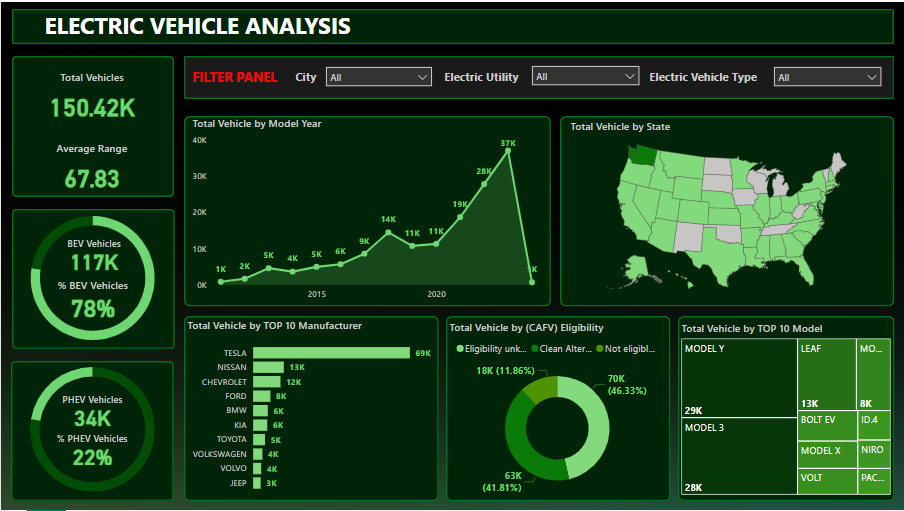

The page's visual inventory and layout, read from the dashboard file:
{"tool":"powerbi","page":{"name":"Page 1","canvas":[1280,720],"ordinal":0},"visuals":[{"type":"shape","box":[15.7,10,1250,49.9],"z":0},{"type":"textbox","box":[56.7,5.7,477.6,58.1],"z":1000},{"type":"shape","box":[15.7,77.1,229.7,199.8],"z":2000},{"type":"card","title":"Total Vehicles","fields":{"Values":["Electric_Vehicle_Population_Data.Total Vehicle"]},"box":[37.5,96.5,184.1,80.4],"z":3000},{"type":"card","title":"Average Range","fields":{"Values":["Avg(Electric_Vehicle_Population_Data.Electric Range)"]},"box":[37.5,196.6,184.1,80.4],"z":4000},{"type":"shape","box":[16.1,293.2,230.6,198.4],"z":5000},{"type":"shape","box":[14.3,509.5,230.6,198.4],"z":6000},{"type":"donutChart","fields":{"Category":["Electric_Vehicle_Population_Data.Electric Vehicle Type"],"Y":["Electric_Vehicle_Population_Data.Total Vehicle"]},"box":[0,276.8,259.7,229.7],"z":7000},{"type":"card","title":"BEV Vehicles","fields":{"Values":["Electric_Vehicle_Population_Data.BEV Vehicles"]},"box":[39.3,332.5,184.1,51.8],"z":8000},{"type":"card","title":"% BEV Vehicles","fields":{"Values":["Electric_Vehicle_Population_Data.% of BEV"]},"box":[51.8,391.5,155.5,60.8],"z":9000},{"type":"donutChart","fields":{"Category":["Electric_Vehicle_Population_Data.Electric Vehicle Type"],"Y":["Electric_Vehicle_Population_Data.Total Vehicle"]},"box":[0,489.8,259.2,230.6],"z":10000},{"type":"card","title":"PHEV Vehicles","fields":{"Values":["Electric_Vehicle_Population_Data.PHEV Vehicles"]},"box":[55.4,554.2,148.4,51.8],"z":11000},{"type":"card","title":"% PHEV Vehicles","fields":{"Values":["Electric_Vehicle_Population_Data.% of PHEV"]},"box":[55.4,609.6,148.4,51.8],"z":12000},{"type":"shape","box":[259.2,76.9,1006.5,60.8],"z":13000},{"type":"shape","box":[259.2,160.9,520,270],"z":14000},{"type":"areaChart","fields":{"Category":["Electric_Vehicle_Population_Data.Model Year"],"Y":["Electric_Vehicle_Population_Data.Total Vehicle"]},"box":[266.4,160.9,504.1,269.9],"z":15000},{"type":"shape","box":[792,160.9,473.7,269.9],"z":16000},{"type":"shapeMap","fields":{"Category":["Electric_Vehicle_Population_Data.State"],"Value":["Electric_Vehicle_Population_Data.Total Vehicle"]},"box":[802,165.5,453.8,256.9],"z":17000},{"type":"shape","box":[259.7,445.2,361,262.6],"z":18000},{"type":"clusteredBarChart","title":"Total Vehicle by TOP 10 Manufacturer","fields":{"Category":["Electric_Vehicle_Population_Data.Make"],"Y":["Electric_Vehicle_Population_Data.Total Vehicle"]},"box":[259.7,448.1,355.3,255.4],"z":19000},{"type":"shape","box":[630.7,445.2,318.2,262.6],"z":20000},{"type":"donutChart","title":"Total Vehicle by (CAFV) Eligibility","fields":{"Category":["Electric_Vehicle_Population_Data.Clean Alternative Fuel Vehicle (CAFV) Eligibility"],"Y":["Electric_Vehicle_Population_Data.Total Vehicle"]},"box":[630.7,450.9,315.4,258.3],"z":21000},{"type":"shape","box":[958.9,445.2,306.8,262.6],"z":22000},{"type":"treemap","title":"Total Vehicle by TOP 10 Model","fields":{"Group":["Electric_Vehicle_Population_Data.Model"],"Values":["Electric_Vehicle_Population_Data.Total Vehicle"]},"box":[959.5,452.1,306.1,250.9],"z":23000},{"type":"textbox","box":[266.5,87.9,146,39.7],"z":24000},{"type":"slicer","fields":{"Values":["Electric_Vehicle_Population_Data.City"]},"box":[450.7,82.2,169.8,48.3],"z":25000},{"type":"textbox","box":[413.1,89.4,57.2,39.3],"z":26000},{"type":"slicer","fields":{"Values":["Electric_Vehicle_Population_Data.Electric Utility"]},"box":[742.2,80.4,171.6,48.3],"z":27000},{"type":"textbox","box":[624.3,89.4,132.3,37.5],"z":28000},{"type":"slicer","fields":{"Values":["Electric_Vehicle_Population_Data.Electric Vehicle Type"]},"box":[1085.1,82.2,171.6,48.3],"z":29000},{"type":"textbox","box":[914.2,89.3,181.4,38.3],"z":30000}]}

Visuals, with their boxes in screenshot pixels (x1, y1, x2, y2), scaled from the page's 1280x720 canvas onto the 904x511 screenshot:
shape: {"x1": 11, "y1": 7, "x2": 894, "y2": 43}
textbox: {"x1": 40, "y1": 4, "x2": 377, "y2": 45}
shape: {"x1": 11, "y1": 55, "x2": 173, "y2": 197}
"Total Vehicles" card: {"x1": 26, "y1": 68, "x2": 157, "y2": 126}
"Average Range" card: {"x1": 26, "y1": 140, "x2": 157, "y2": 197}
shape: {"x1": 11, "y1": 208, "x2": 174, "y2": 349}
shape: {"x1": 10, "y1": 362, "x2": 173, "y2": 502}
donutChart - Electric_Vehicle_Population_Data.Electric Vehicle Type x Electric_Vehicle_Population_Data.Total Vehicle: {"x1": 0, "y1": 196, "x2": 183, "y2": 359}
"BEV Vehicles" card: {"x1": 28, "y1": 236, "x2": 158, "y2": 273}
"% BEV Vehicles" card: {"x1": 37, "y1": 278, "x2": 146, "y2": 321}
donutChart - Electric_Vehicle_Population_Data.Electric Vehicle Type x Electric_Vehicle_Population_Data.Total Vehicle: {"x1": 0, "y1": 348, "x2": 183, "y2": 510}
"PHEV Vehicles" card: {"x1": 39, "y1": 393, "x2": 144, "y2": 430}
"% PHEV Vehicles" card: {"x1": 39, "y1": 433, "x2": 144, "y2": 469}
shape: {"x1": 183, "y1": 55, "x2": 894, "y2": 98}
shape: {"x1": 183, "y1": 114, "x2": 550, "y2": 306}
areaChart - Electric_Vehicle_Population_Data.Model Year x Electric_Vehicle_Population_Data.Total Vehicle: {"x1": 188, "y1": 114, "x2": 544, "y2": 306}
shape: {"x1": 559, "y1": 114, "x2": 894, "y2": 306}
shapeMap - Electric_Vehicle_Population_Data.State x Electric_Vehicle_Population_Data.Total Vehicle: {"x1": 566, "y1": 117, "x2": 887, "y2": 300}
shape: {"x1": 183, "y1": 316, "x2": 438, "y2": 502}
"Total Vehicle by TOP 10 Manufacturer" clusteredBarChart: {"x1": 183, "y1": 318, "x2": 434, "y2": 499}
shape: {"x1": 445, "y1": 316, "x2": 670, "y2": 502}
"Total Vehicle by (CAFV) Eligibility" donutChart: {"x1": 445, "y1": 320, "x2": 668, "y2": 503}
shape: {"x1": 677, "y1": 316, "x2": 894, "y2": 502}
"Total Vehicle by TOP 10 Model" treemap: {"x1": 678, "y1": 321, "x2": 894, "y2": 499}
textbox: {"x1": 188, "y1": 62, "x2": 291, "y2": 91}
slicer - Electric_Vehicle_Population_Data.City: {"x1": 318, "y1": 58, "x2": 438, "y2": 93}
textbox: {"x1": 292, "y1": 63, "x2": 332, "y2": 91}
slicer - Electric_Vehicle_Population_Data.Electric Utility: {"x1": 524, "y1": 57, "x2": 645, "y2": 91}
textbox: {"x1": 441, "y1": 63, "x2": 534, "y2": 90}
slicer - Electric_Vehicle_Population_Data.Electric Vehicle Type: {"x1": 766, "y1": 58, "x2": 888, "y2": 93}
textbox: {"x1": 646, "y1": 63, "x2": 774, "y2": 91}
